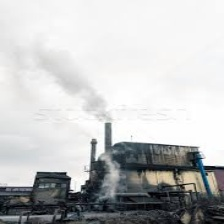smoke: (27, 57, 116, 126), (93, 161, 128, 206)
